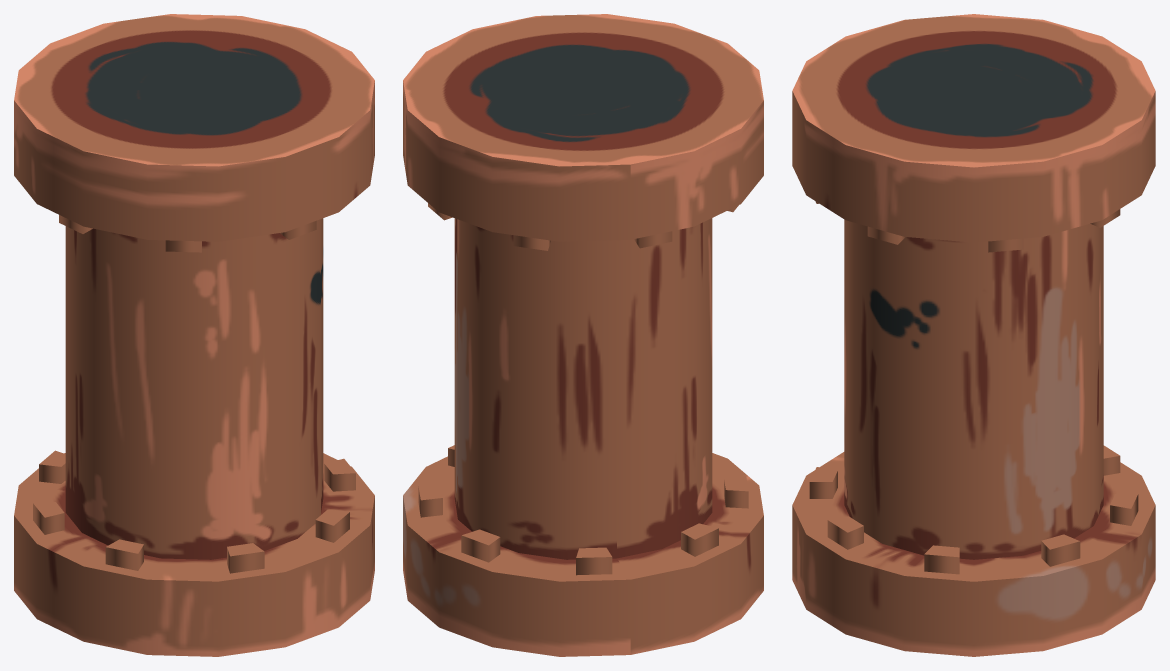
File: Pipe2.glb
3 renders of one model, left to right at view 1: azimuth 30°, elevation 25°; view 2: azimuth 150°, elevation 25°; view 3: azimuth 270°, elevation 25°, orthographic.
Parts seen in each view (by area): view 1: Pipe2; view 2: Pipe2; view 3: Pipe2.
Part boxes in pixels (box(x1,y1,x2,y2)): Pipe2: box(14, 14, 374, 656); Pipe2: box(403, 14, 763, 656); Pipe2: box(792, 14, 1155, 656).
Bounding box in the file's own units: 2.02 × 3 × 2.02.
Materials: 1 (1 with a texture image).
